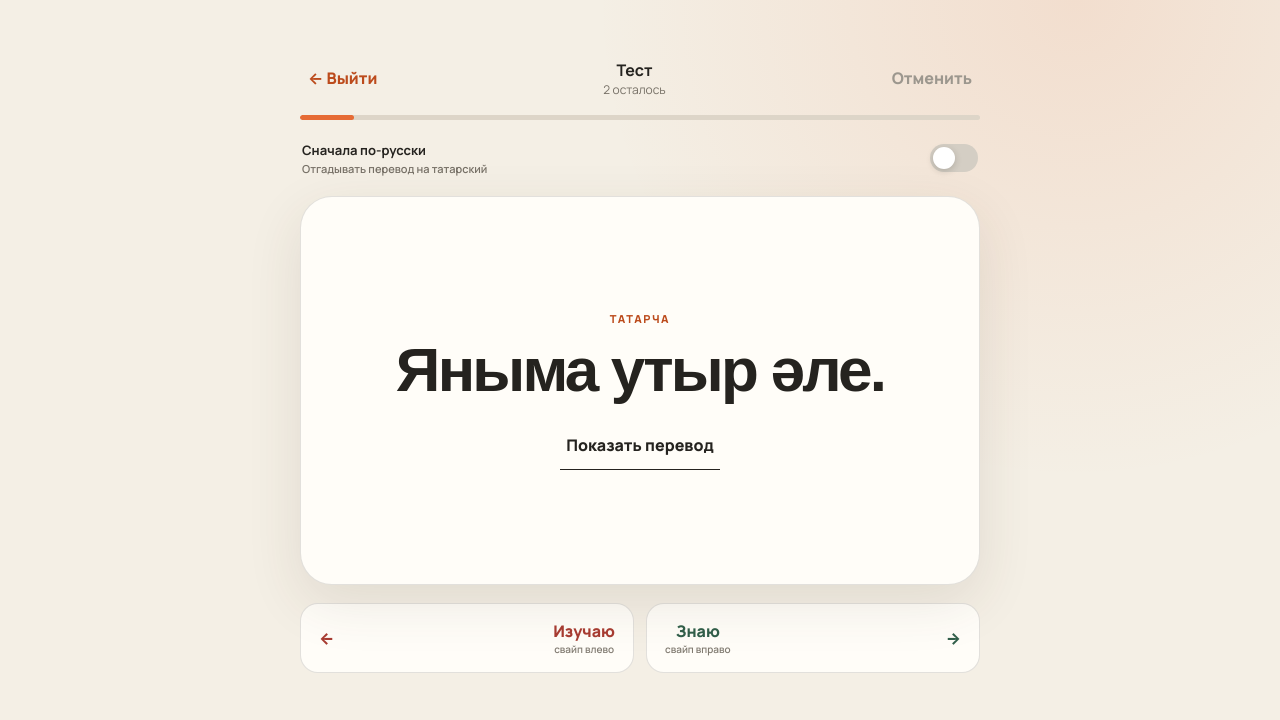
Test: StudyPage › can show Russian first and reveal the Tatar translation
Click the checkbox labelled "Сначала по-русски Отгадывать перевод на татарский" at x=954, y=158, box [930,144,978,172]
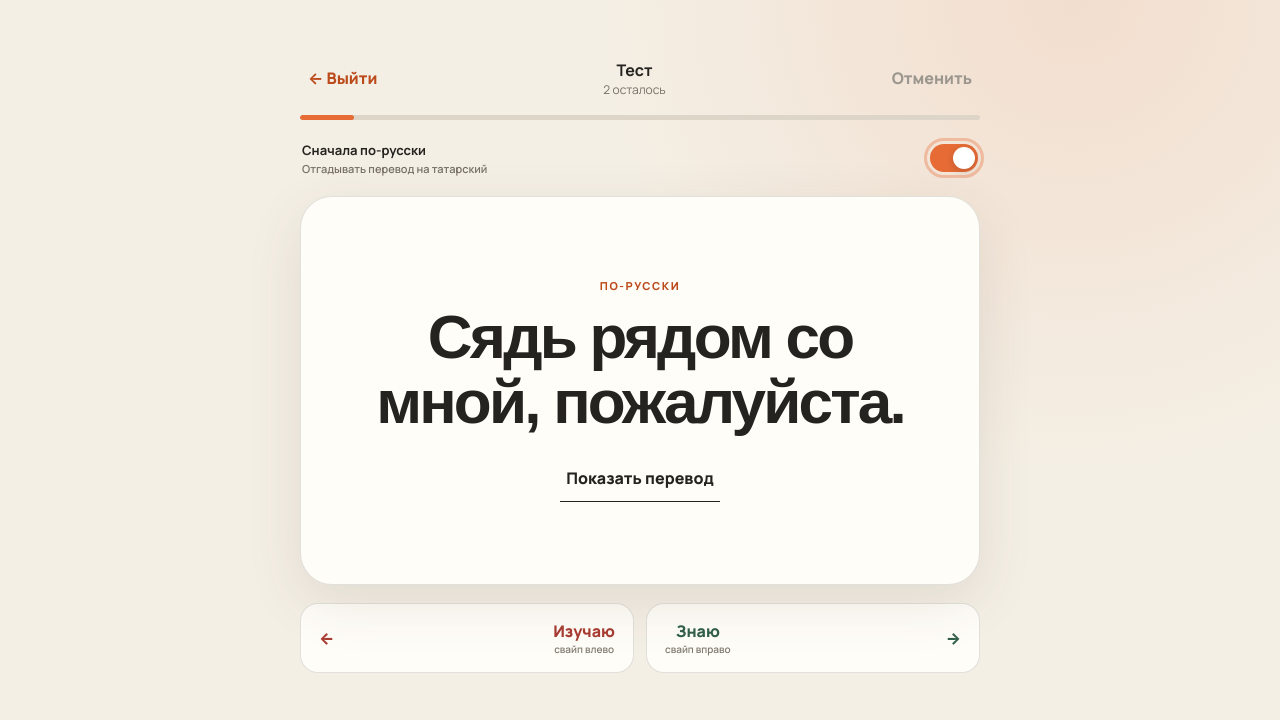
expect the heading "Яныма утыр әле." is gone: met
Click the button "Показать перевод" at x=640, y=478, box [560,454,720,502]
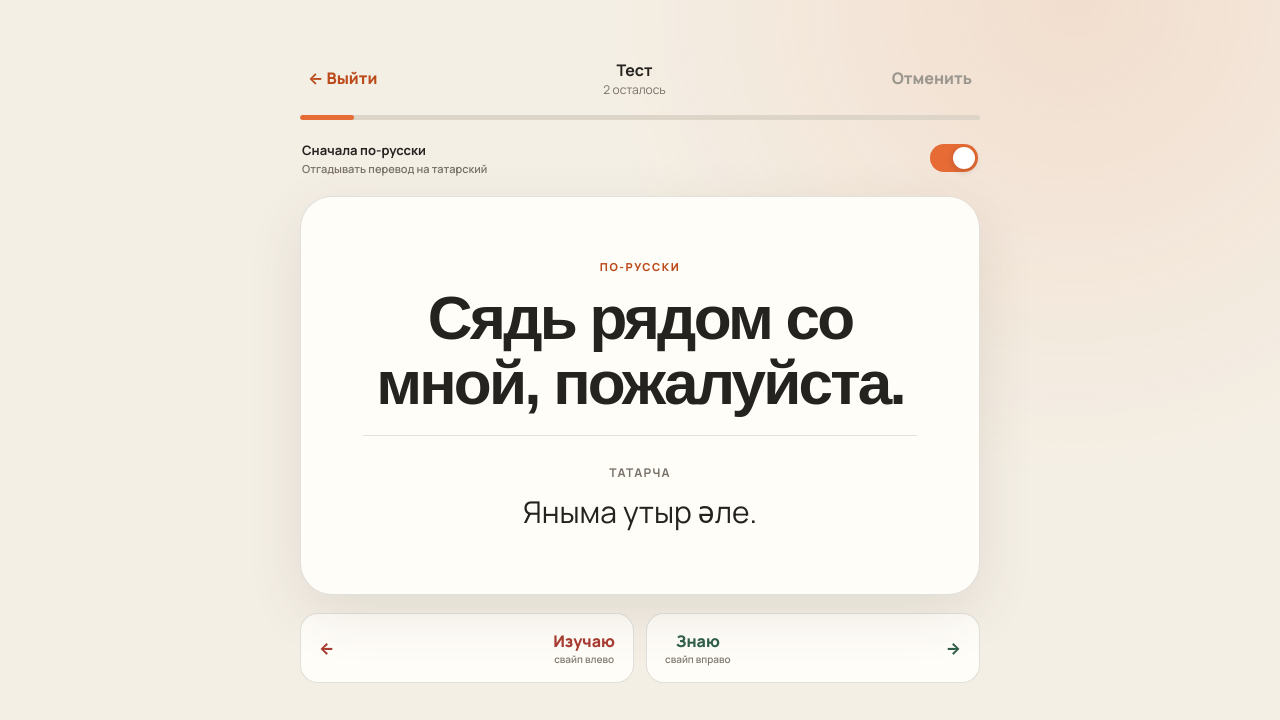
expect the text "Татарча" is shown: met, box [609,464,671,481]
